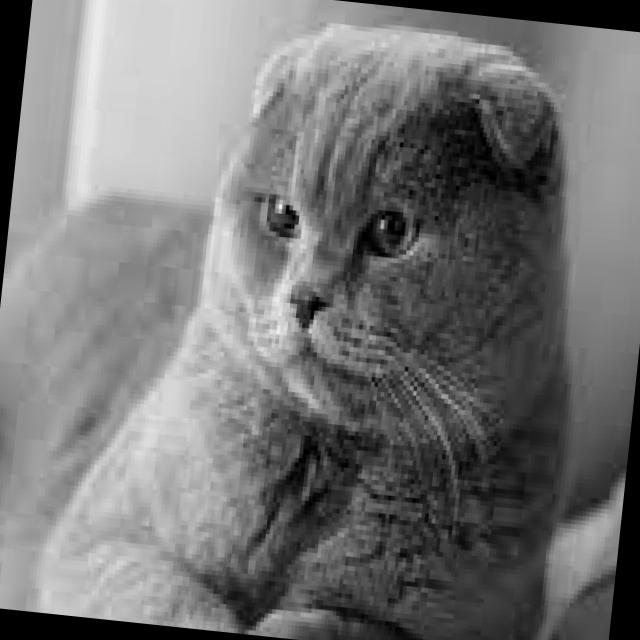scootish: (174, 0, 579, 474)
